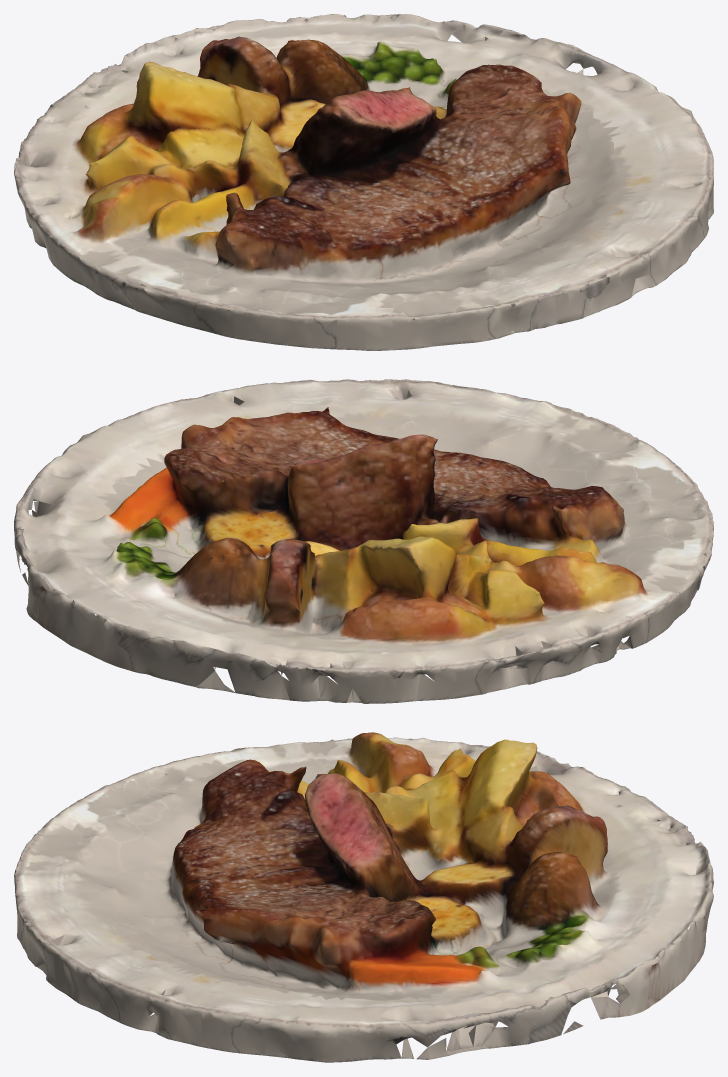
The model's file is steak-bife-ancho-batatas.glb.
The picture shows the model from 3 angles, top to bottom: view 1: azimuth 30°, elevation 25°; view 2: azimuth 150°, elevation 25°; view 3: azimuth 270°, elevation 25°; orthographic projection.
Visible parts, largest first — view 1: mesh_main_0; view 2: mesh_main_0; view 3: mesh_main_0.
Boxes of the visible parts, left/top/right/bottom form: mesh_main_0: left=14, top=14, right=713, bottom=350; mesh_main_0: left=14, top=379, right=713, bottom=703; mesh_main_0: left=14, top=732, right=713, bottom=1062.
Size of the model in its own units: 0.2665 by 0.0515 by 0.2665.
Materials: 1 (1 with a texture image).
